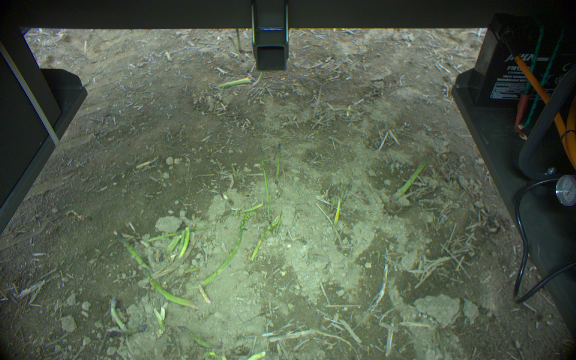aspa: (196, 211, 254, 289), (140, 266, 198, 310), (390, 151, 433, 206), (113, 230, 152, 273), (249, 213, 280, 260), (149, 224, 211, 243), (258, 145, 272, 225), (108, 295, 129, 335), (178, 325, 212, 349), (271, 141, 285, 182), (330, 189, 344, 227), (179, 225, 193, 257), (225, 36, 244, 59), (217, 76, 252, 88), (150, 306, 165, 333), (166, 232, 180, 254), (234, 27, 243, 52), (252, 71, 263, 88), (177, 227, 184, 248)
